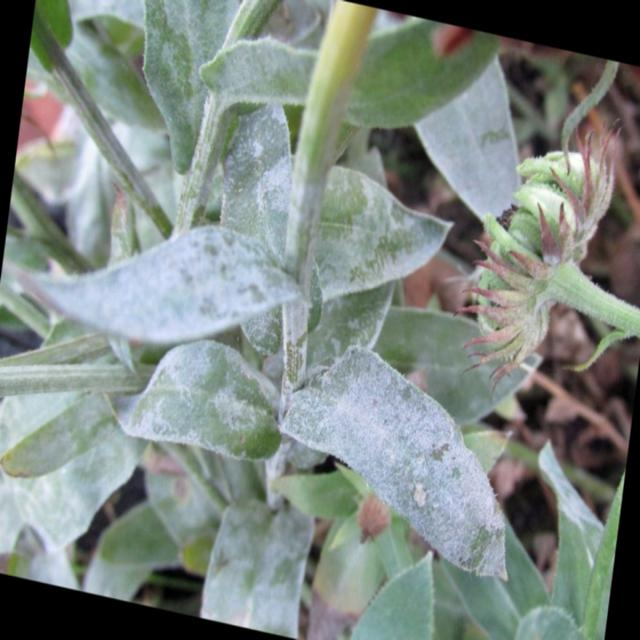Powdery Mildew: (278, 344, 508, 582), (453, 116, 638, 394), (16, 222, 305, 348)
